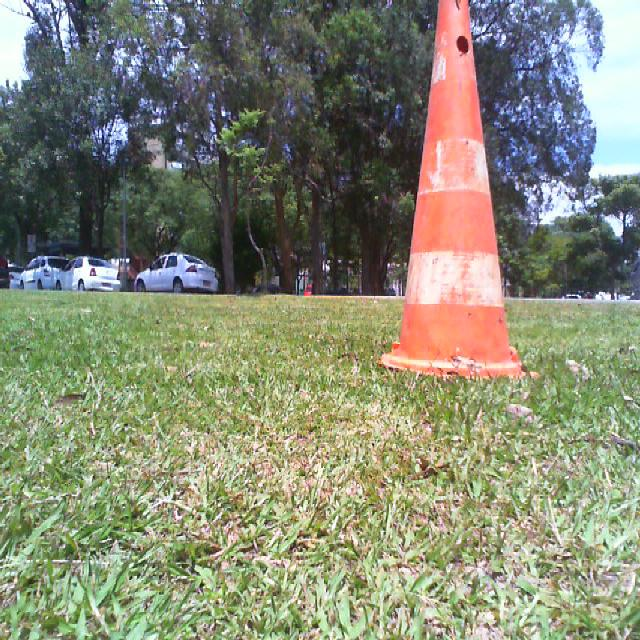cone: (381, 0, 520, 373)
